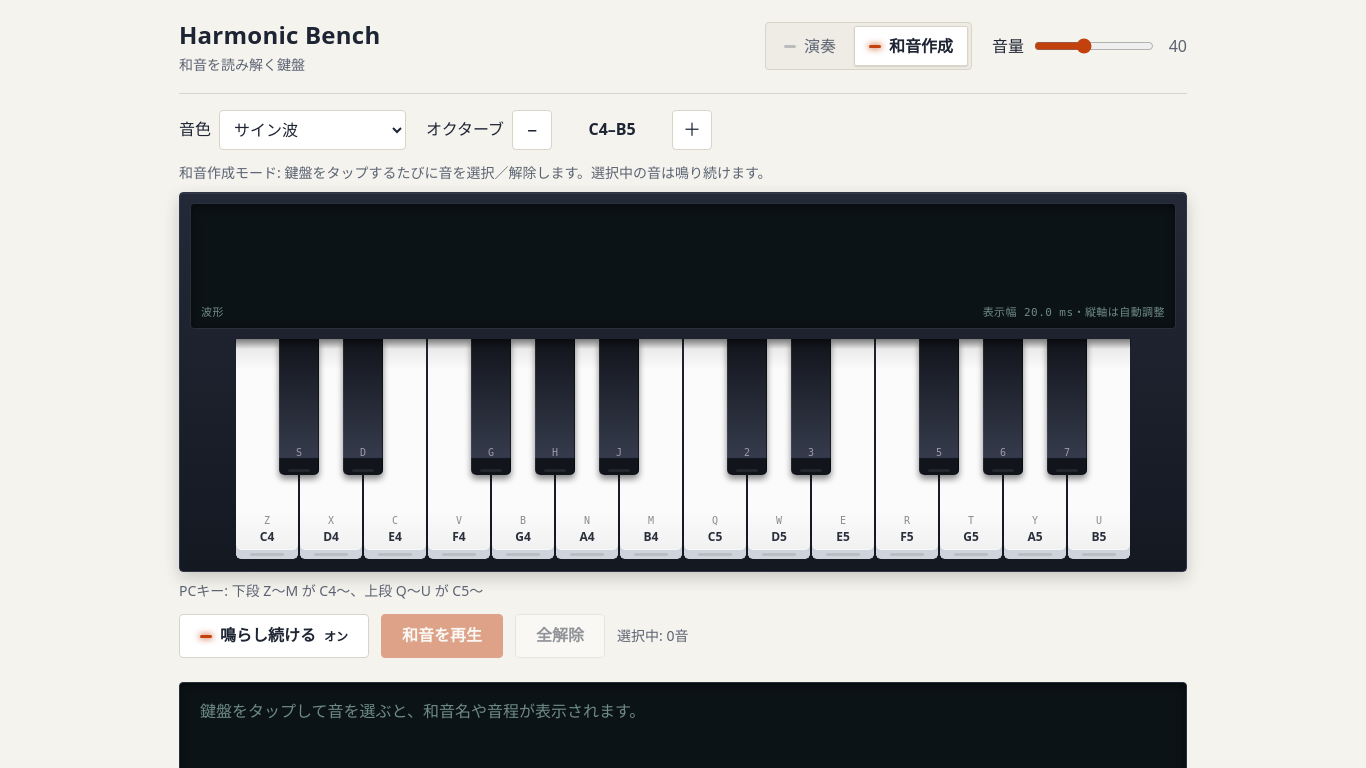
Scenario: App: 和音作成モード（初期モード） › 判定できない集合には和音名を付けない
What coordinates should you click on to do the following:
click the button "Z C4"
I would click on:
 (267, 449)
Its box is [235,339,299,559].
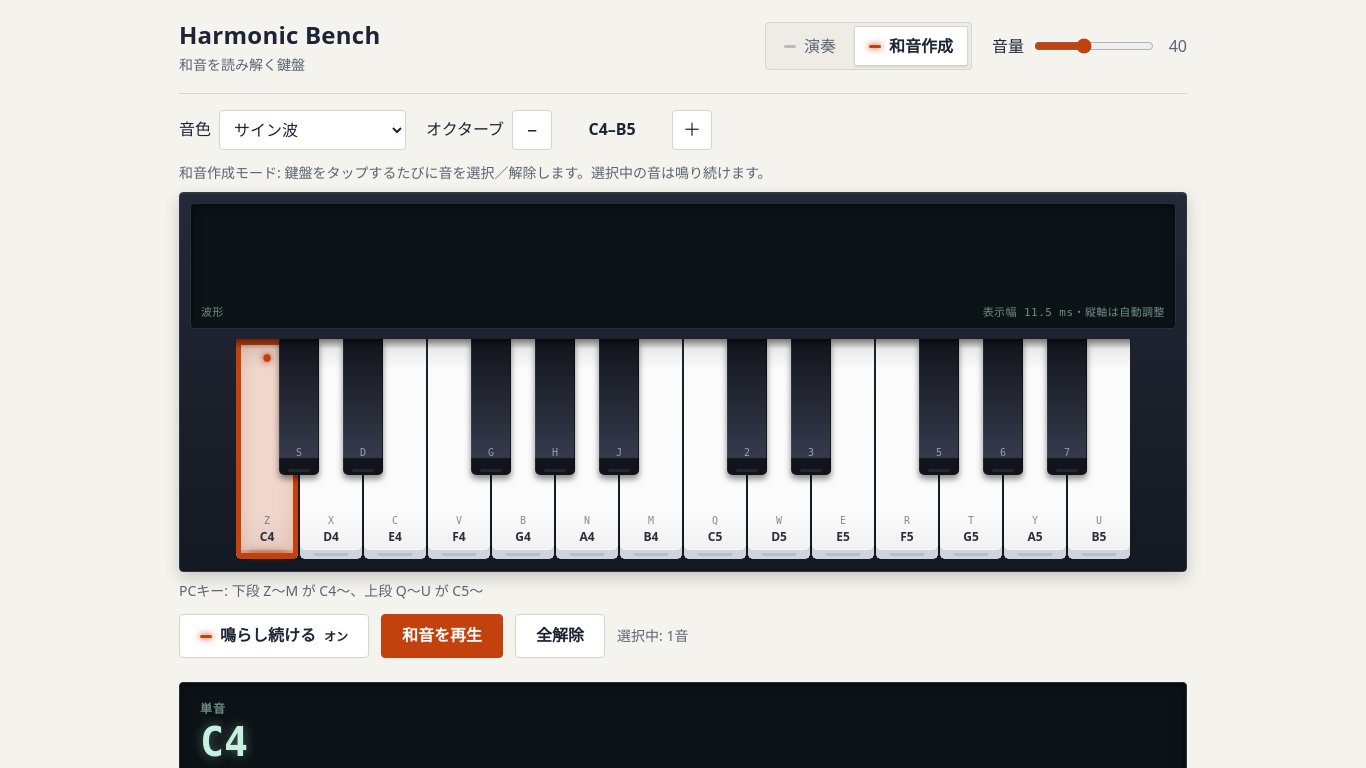
What coordinates should you click on to do the following:
click the button named "C♯4 / D♭4"
I would click on:
 (299, 407)
Its box is [279,339,319,475].
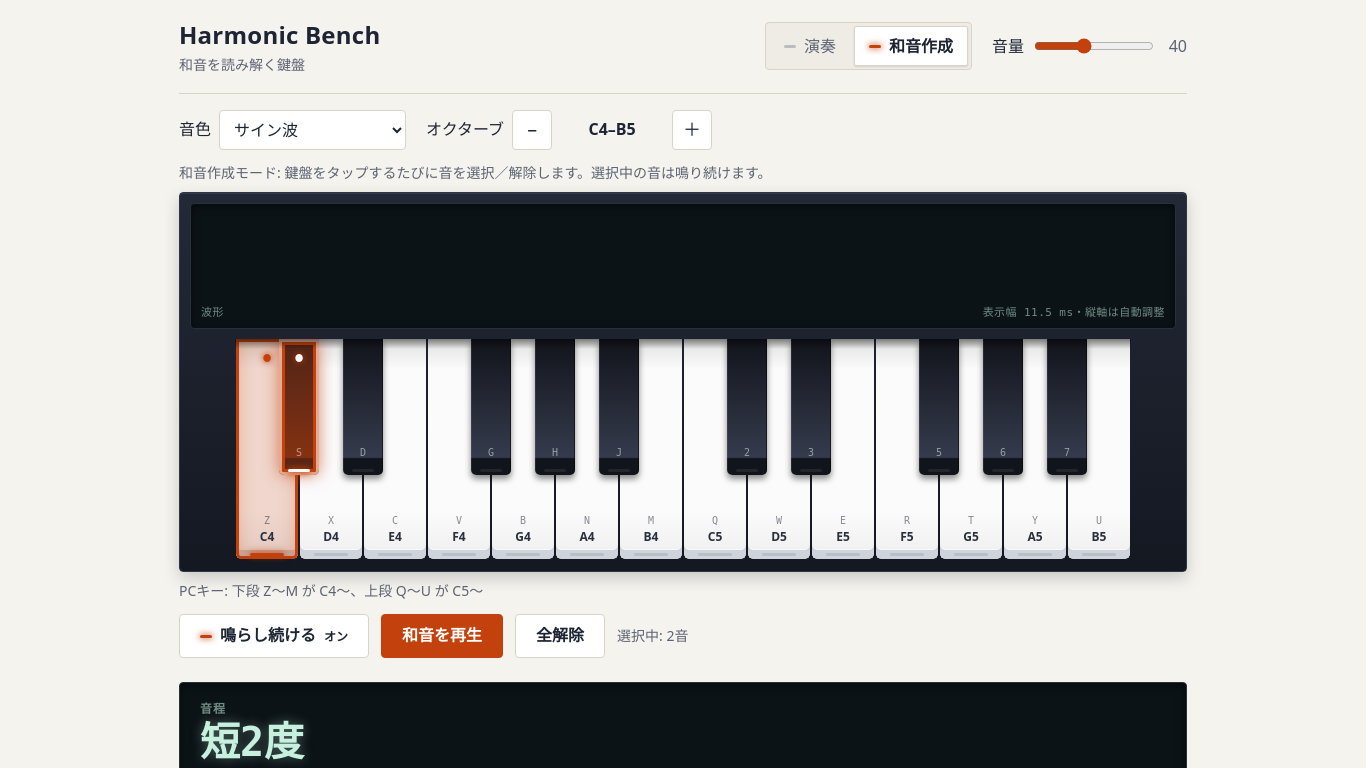
What coordinates should you click on to do the following:
click the button "X D4"
I would click on:
 (331, 449)
Its box is [299,339,363,559].
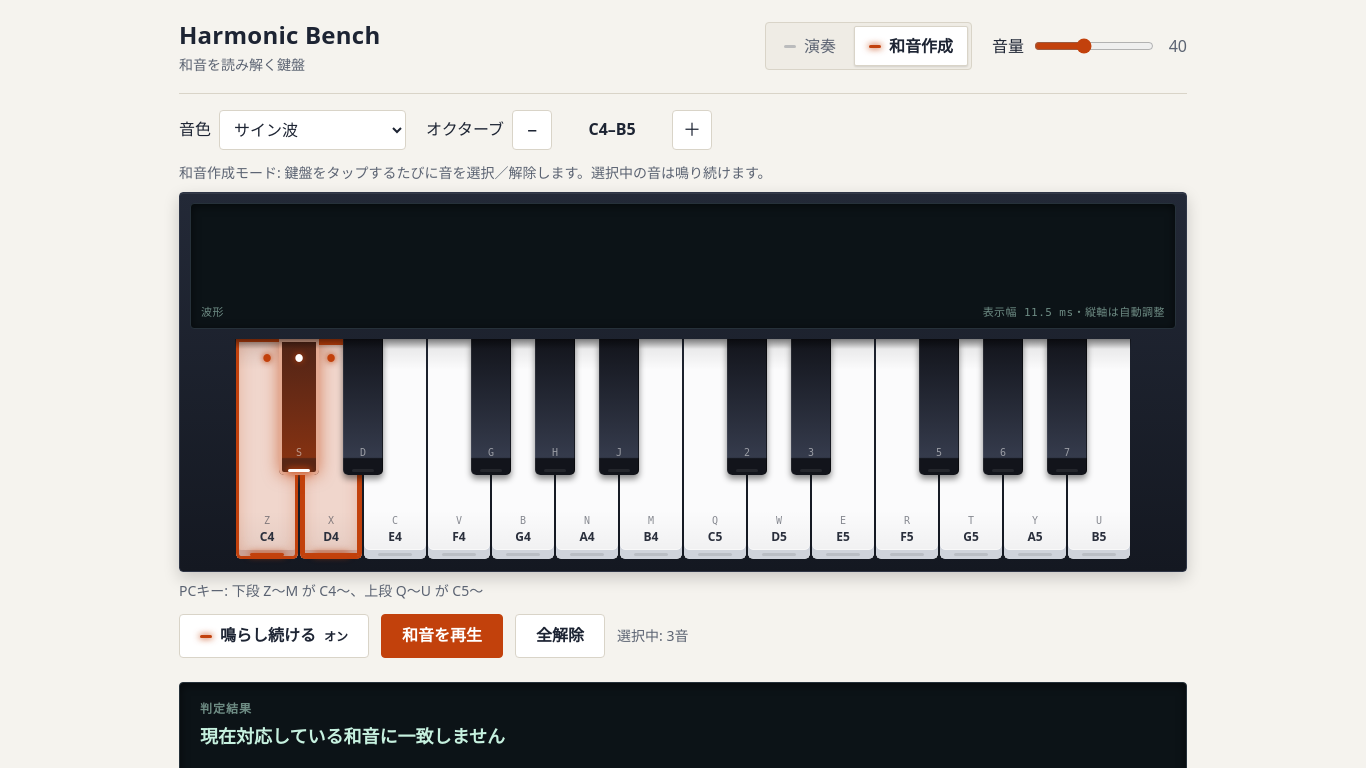
Check: the text "現在対応している和音に一致しません" is shown, box [200,722,505,751]
